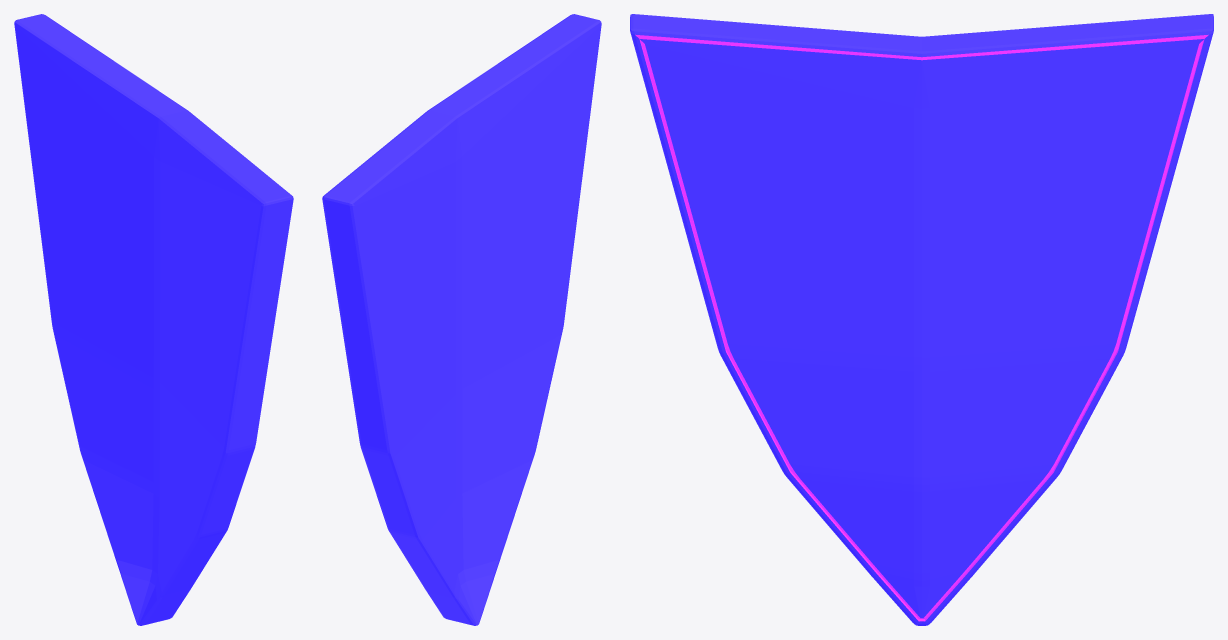
3 views of the same model, side by side, from view 1: azimuth 30°, elevation 25°; view 2: azimuth 150°, elevation 25°; view 3: azimuth 270°, elevation 25° (orthographic). The views are drawn at different scales.
Parts seen in each view (by area): view 1: Cube; view 2: Cube; view 3: Cube.
Part boxes in pixels (x1,y1,x2,y2): Cube: (14,14,293,625); Cube: (322,14,601,625); Cube: (630,14,1213,625).
Bounding box in the file's own units: 14.17 × 134 × 119.
